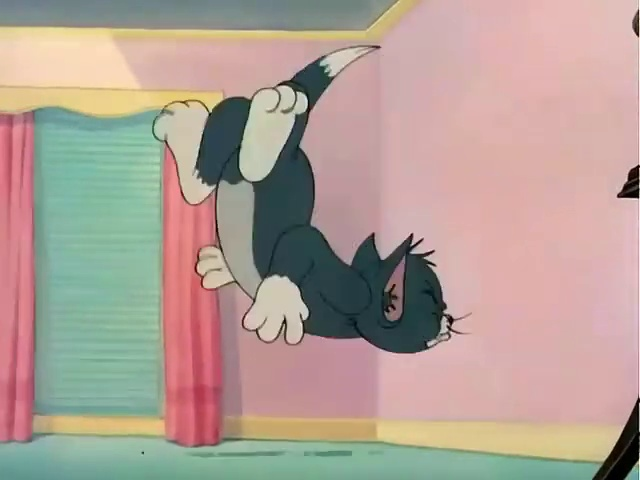tom: (130, 62, 489, 387)
